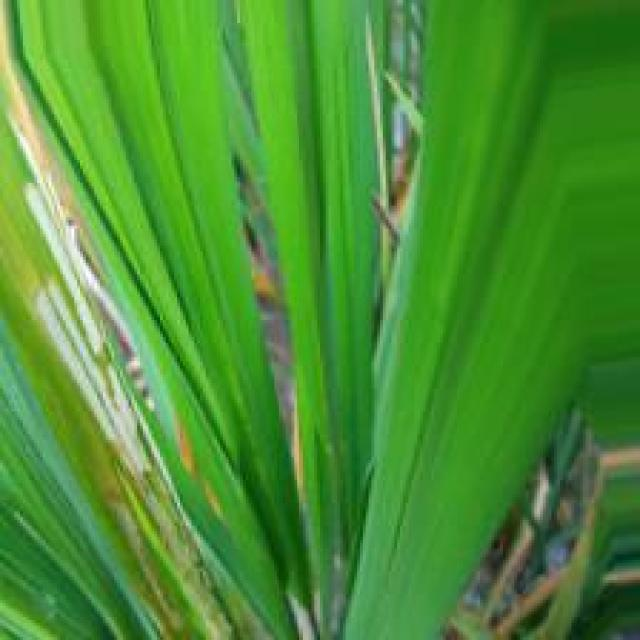Rice_Hispa: (14, 116, 165, 492)
